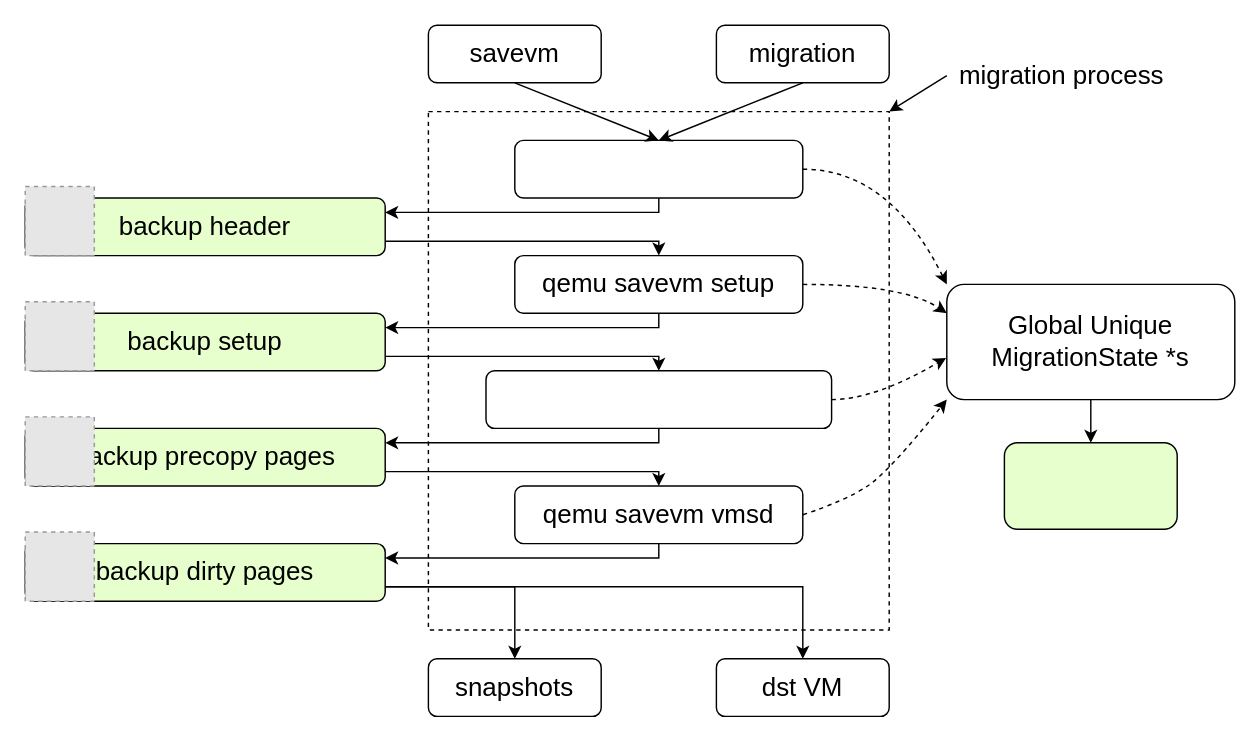
Image size: 1260x742. Some labels were removed from this diagram. Grey dashed boxes stand in for pictures. Here are the shapes that lost their labels. From the top down, the centre of each, then its label:
point (658, 168): qemu savevm header
point (658, 398): qemu savevm live iterate
point (1090, 485): QEMUFile *backup_file
